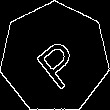P_NW: (25, 27, 85, 89)
